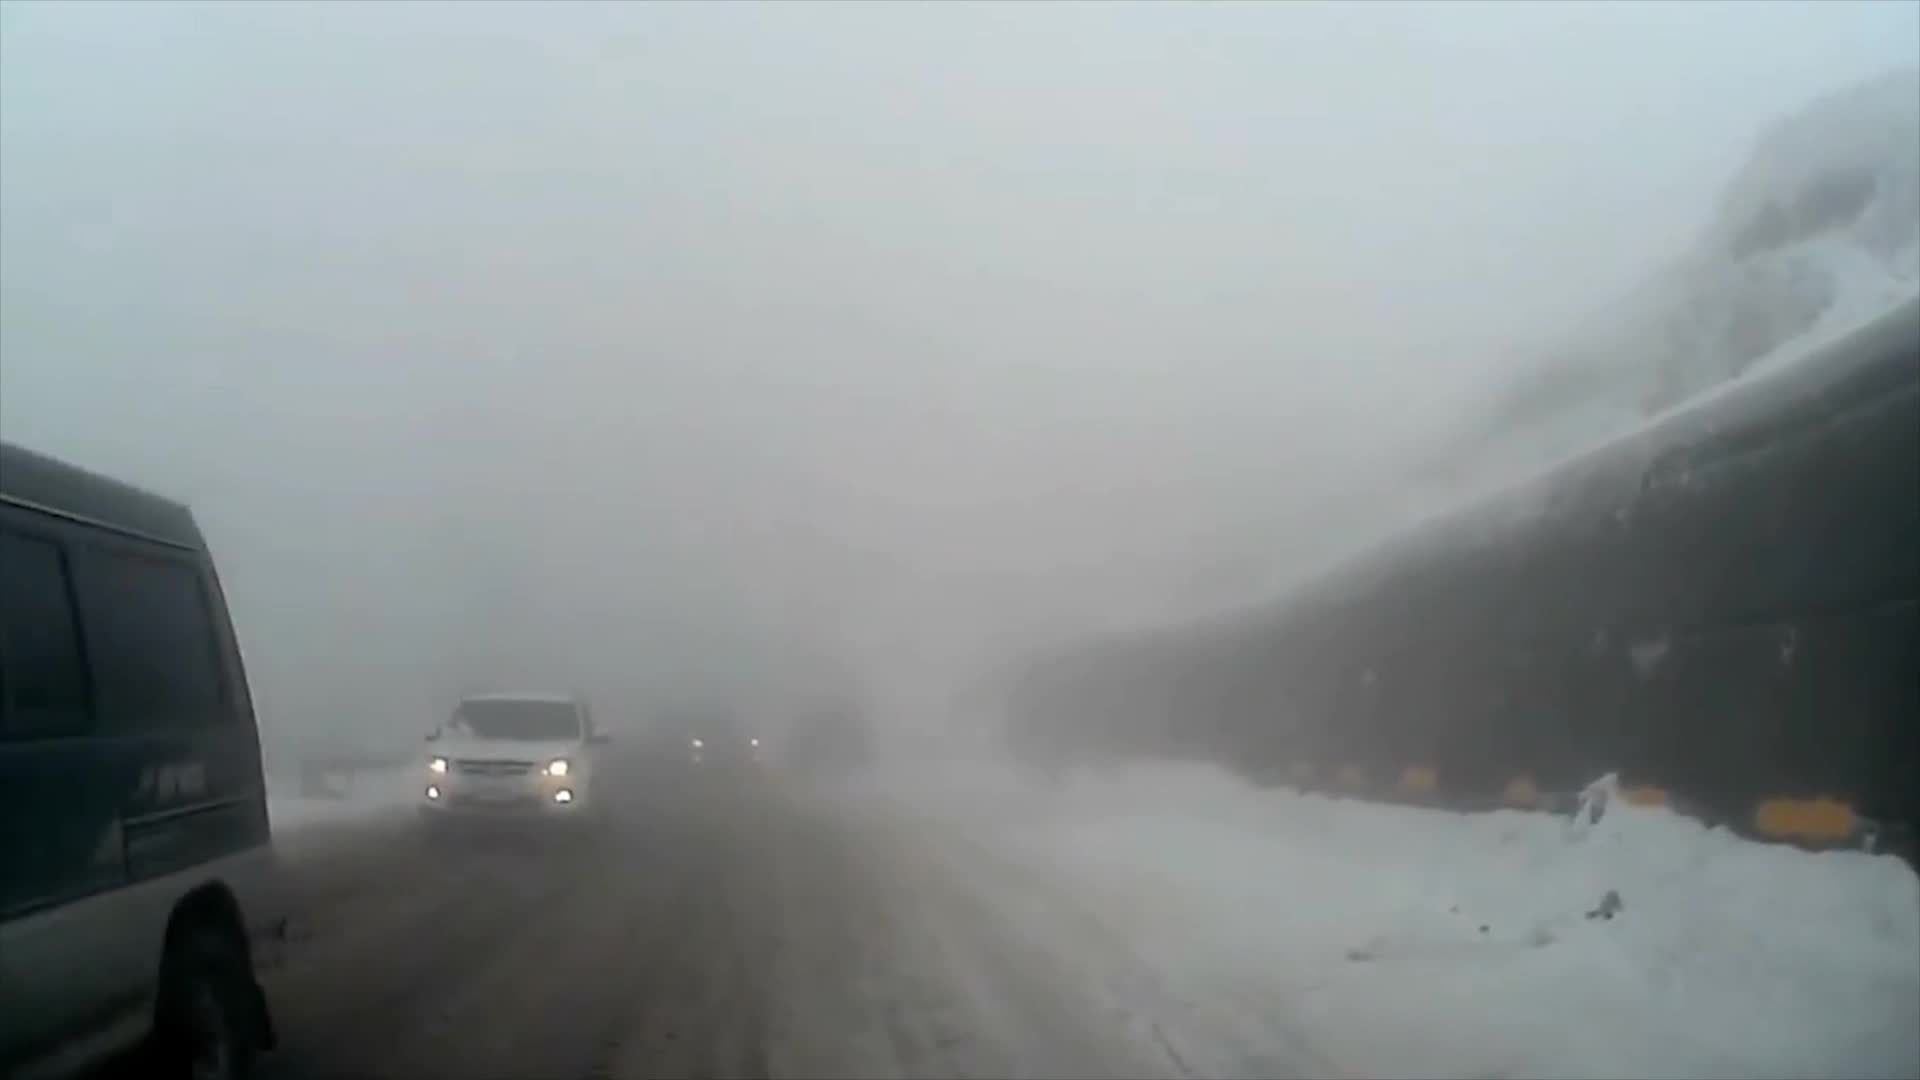vehicle: (0, 440, 281, 1079), (415, 694, 618, 852)
